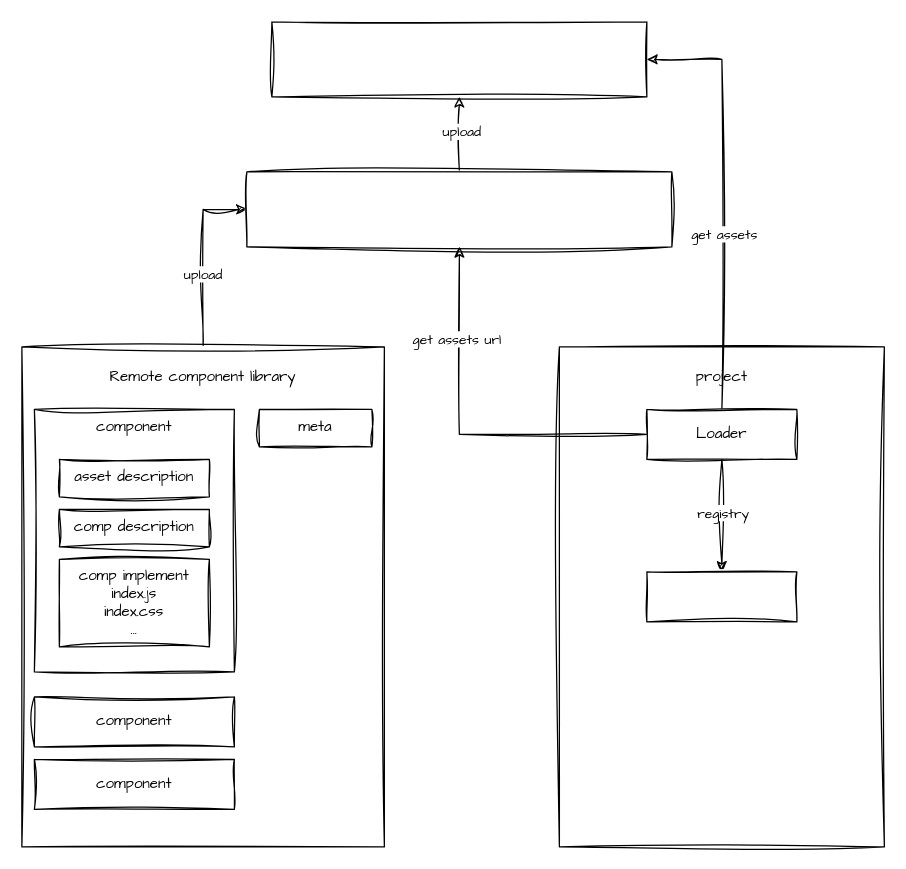
The diagram is 906 pixels wide and 869 high, and some of its shapes have lost their labels. Here are the shapes that lost their labels. From the top down, the centre of each, then its label:
At (459,59): "S3".
At (459,209): "IceCube Service".
At (721,596): "Atta".
